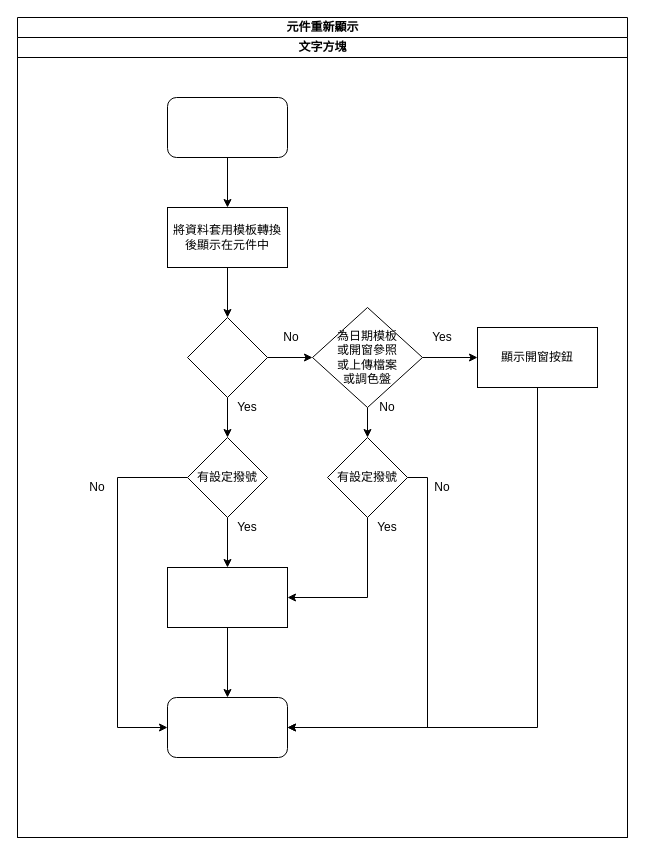
Image size: 645x855. Some labels were removed from this diagram. The centre of each missing label's shape, as x and y in pixels:
執行結束: (227,727)
瀏覽模式: (227,357)
讀取欄位資料: (227,127)
顯示撥號按鈕: (227,597)
